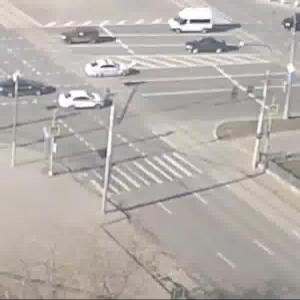car: (1, 76, 53, 101), (58, 92, 114, 113), (170, 8, 215, 33), (187, 37, 231, 59), (84, 60, 135, 78), (59, 28, 103, 47), (280, 16, 300, 27)
